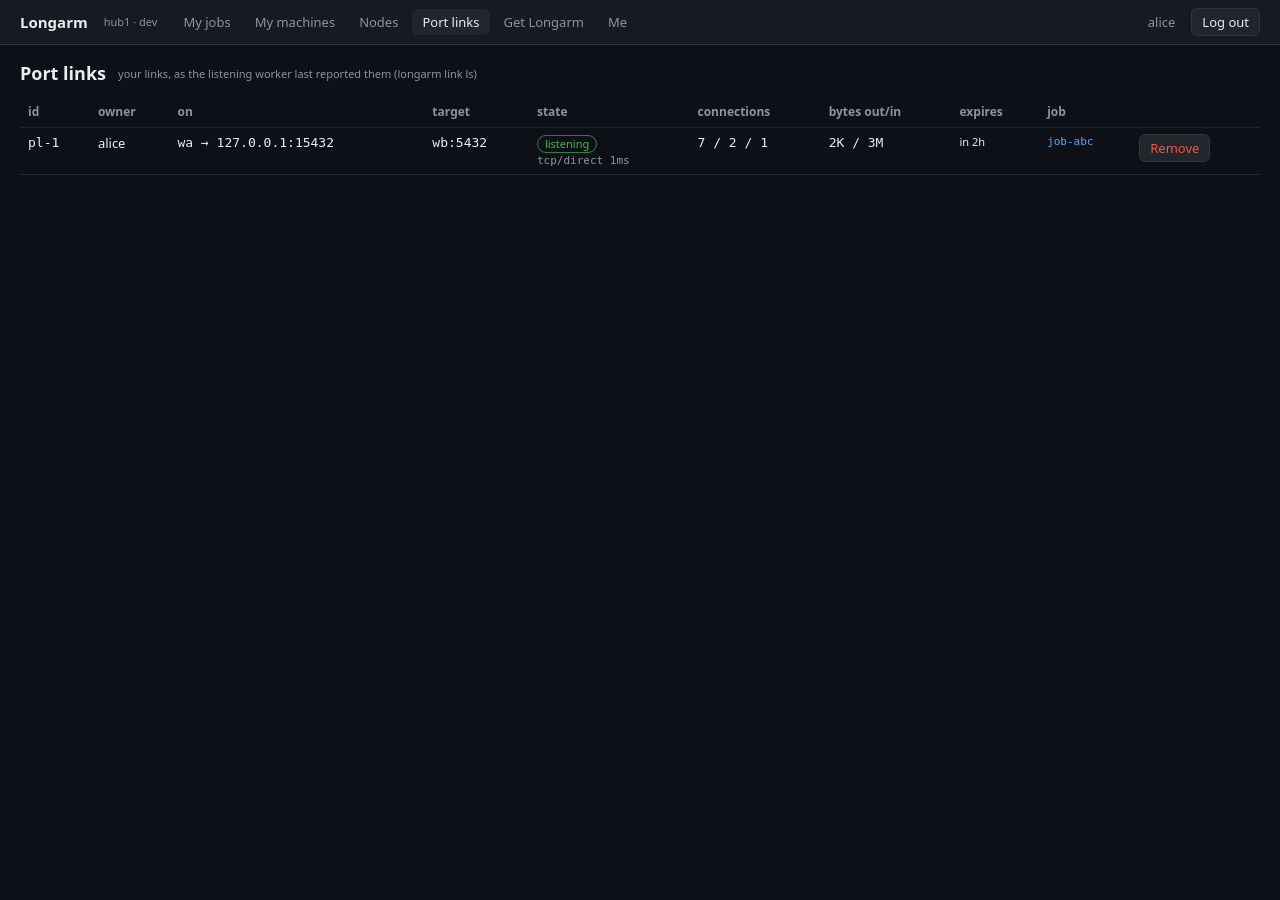
Test: PortLinksPage › removes a link with DELETE /api/port-links/<id> and reloads
Click the button with class "danger".
click(1175, 148)  # box [1139,134,1210,162]
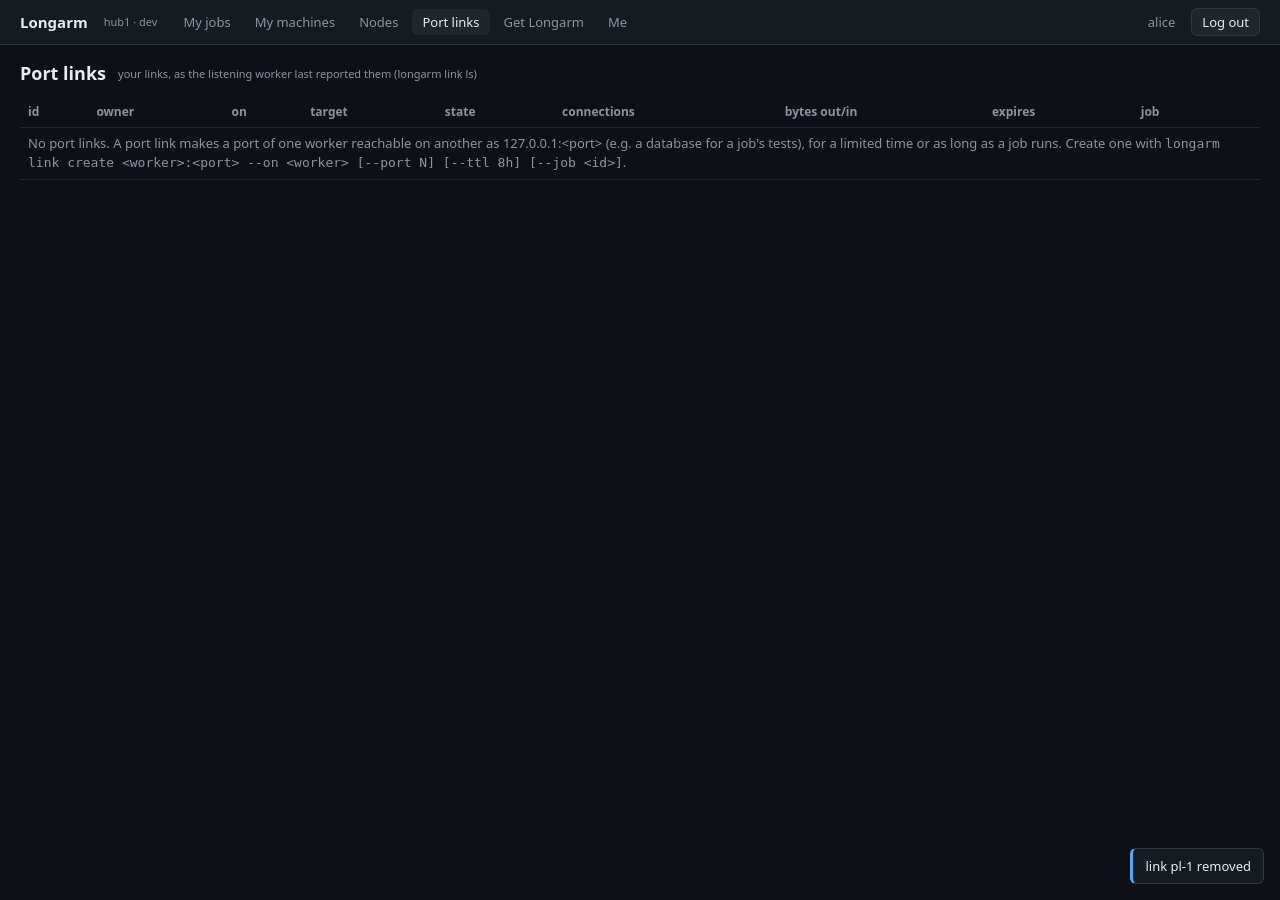
Check: the cell with test id "port-links-empty" is shown, box [20,128,1260,179]
Check: the row with test id "port-link-pl-1" is gone
